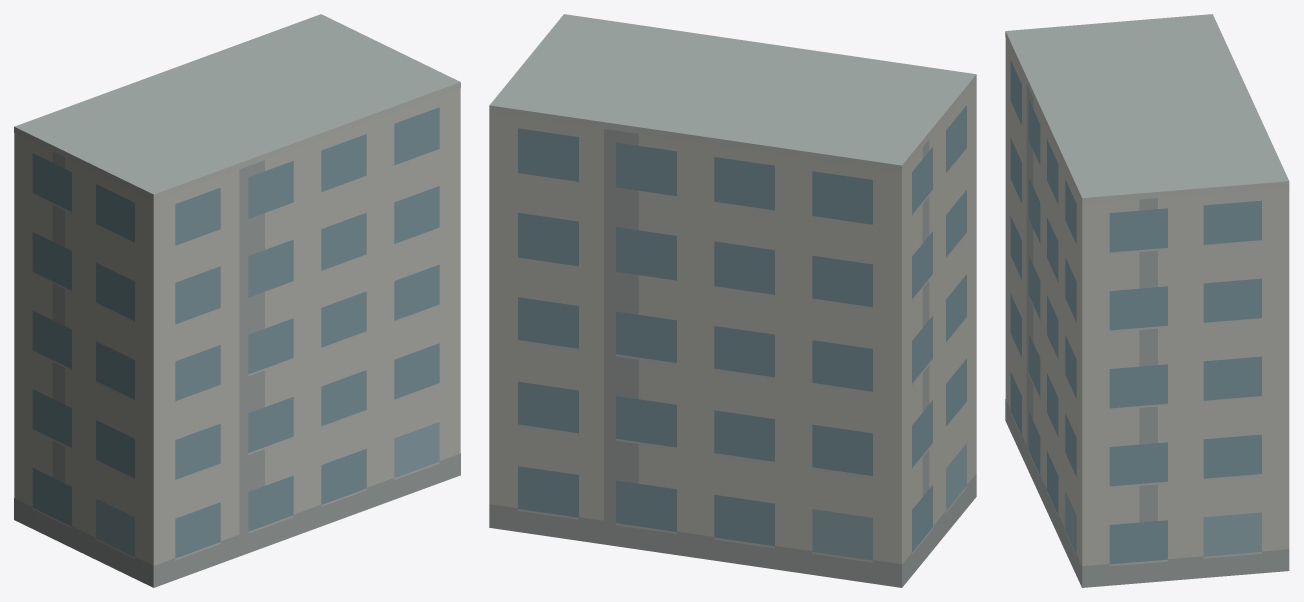
File: residential-a1c57899-bdd0-4320-ab07-efb4ee347333.glb
The picture shows the model from 3 angles, left to right: view 1: azimuth 30°, elevation 25°; view 2: azimuth 150°, elevation 25°; view 3: azimuth 270°, elevation 25°; orthographic projection. The views are drawn at different scales.
Parts seen in each view (by area): view 1: residential-a1c57899-bdd0-4320-ab07-efb4ee347333.tmp; view 2: residential-a1c57899-bdd0-4320-ab07-efb4ee347333.tmp; view 3: residential-a1c57899-bdd0-4320-ab07-efb4ee347333.tmp.
Boxes of the visible parts, x1,y1,x2,y2 form: residential-a1c57899-bdd0-4320-ab07-efb4ee347333.tmp: [14, 14, 460, 587]; residential-a1c57899-bdd0-4320-ab07-efb4ee347333.tmp: [489, 14, 976, 587]; residential-a1c57899-bdd0-4320-ab07-efb4ee347333.tmp: [1005, 14, 1289, 587].
Size of the model in its own units: 15.46 by 15.25 by 10.08.
